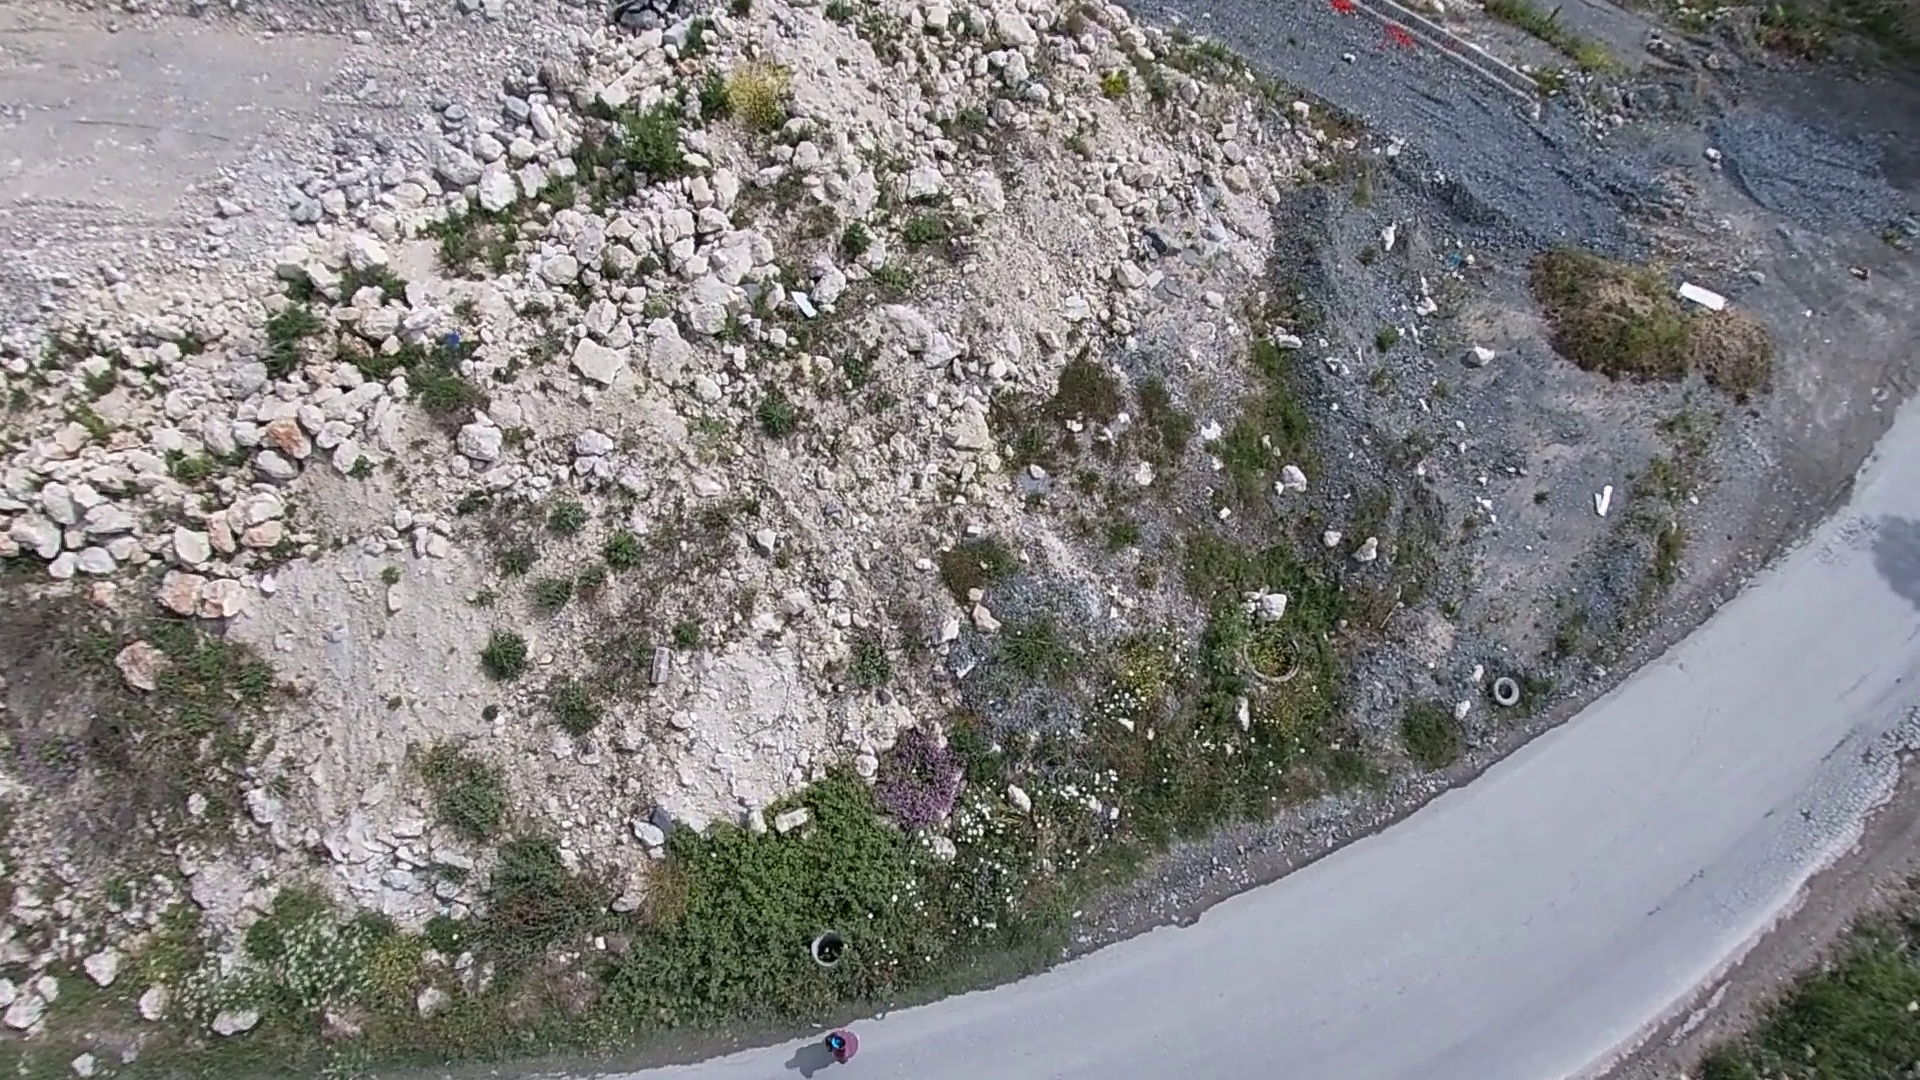insan: (819, 1032, 867, 1064)
